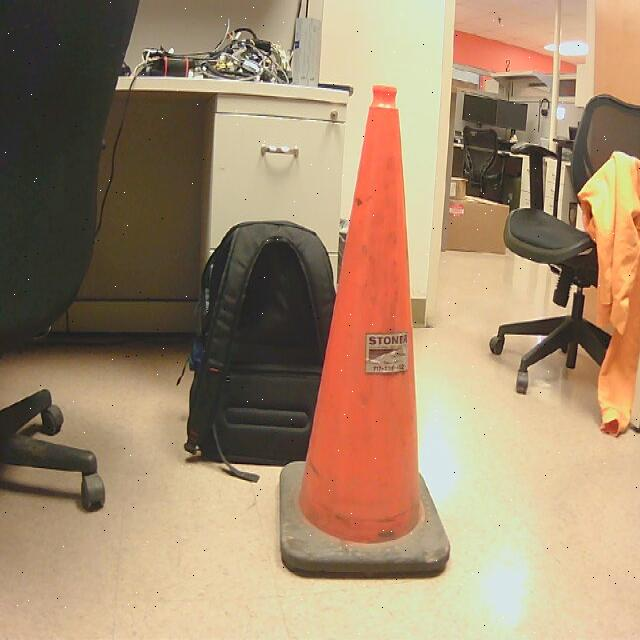traffic cone: (281, 85, 452, 582)
